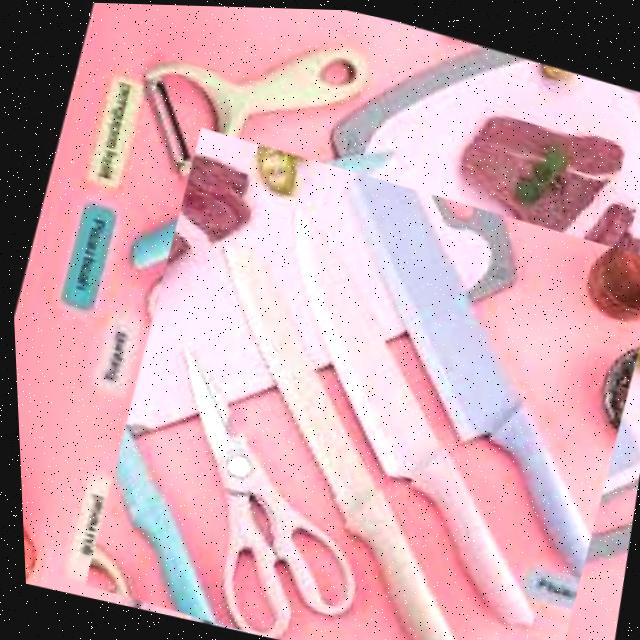knife: (222, 199, 603, 632), (144, 233, 536, 640), (277, 161, 640, 579)
